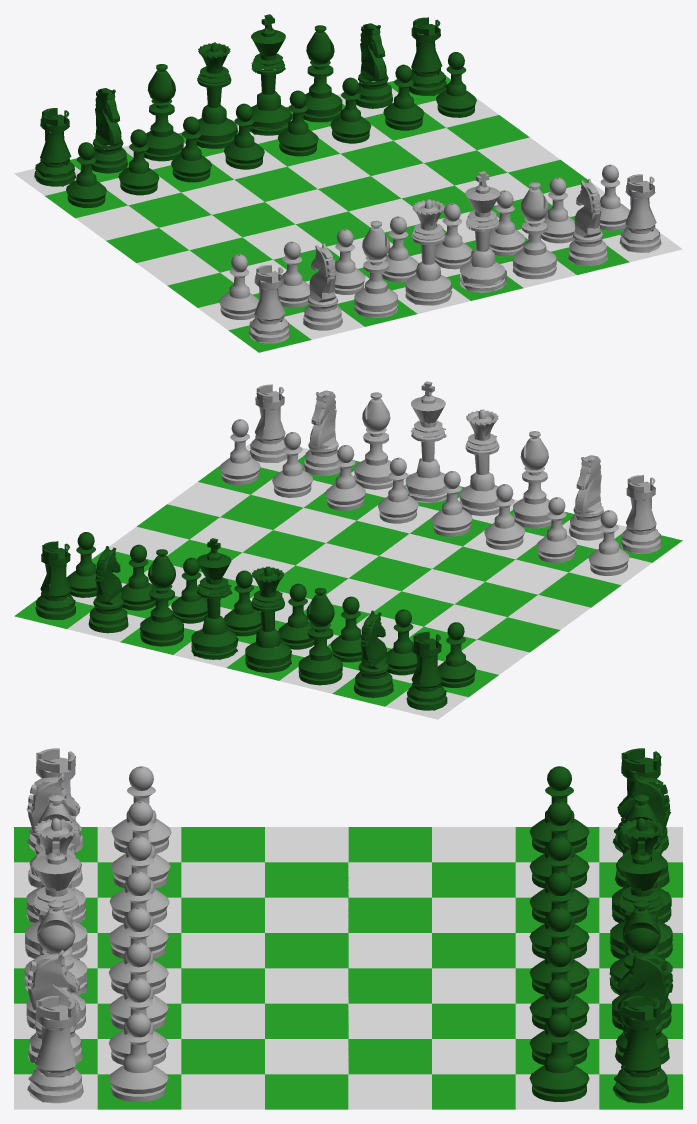
Rendered from chess_pieces.glb.
3 views of the same model, one above another, from view 1: azimuth 30°, elevation 25°; view 2: azimuth 150°, elevation 25°; view 3: azimuth 270°, elevation 25° (orthographic). The views are drawn at different scales.
Visible parts, largest first — view 1: w_king_1, g_king_1, w_queen_1, g_queen_1, w_bishop_2, w_bishop_1, g_bishop_1, g_bishop_2, w_knight_2, w_knight_1, w_rook_1, g_rook_1 (+66 smaller); view 2: g_king_1, w_king_1, g_queen_1, w_queen_1, g_bishop_1, g_bishop_2, w_bishop_1, w_bishop_2, g_knight_2, g_knight_1, g_rook_1, w_rook_1 (+66 smaller); view 3: w_rook_2, g_rook_2, g_pawn_8, w_pawn_8, board_1_5, board_3_5, board_5_5, board_7_5, board_0_4, board_4_4, board_6_4, board_1_3 (+84 smaller).
Part boxes in pixels (<box>): w_king_1: <box>459,171,506,292</box>; g_king_1: <box>249,14,292,135</box>; w_queen_1: <box>405,199,452,305</box>; g_queen_1: <box>197,42,237,148</box>; w_bishop_2: <box>512,182,556,279</box>; w_bishop_1: <box>354,220,397,317</box>; g_bishop_1: <box>144,64,183,161</box>; g_bishop_2: <box>303,25,342,122</box>; w_knight_2: <box>568,178,607,265</box>; w_knight_1: <box>303,243,342,330</box>; w_rook_1: <box>248,264,290,343</box>; g_rook_1: <box>34,108,75,186</box>; g_king_1: <box>191,538,238,659</box>; w_king_1: <box>405,381,446,502</box>; g_queen_1: <box>245,566,291,672</box>; w_queen_1: <box>459,409,499,516</box>; g_bishop_1: <box>298,588,342,685</box>; g_bishop_2: <box>140,549,183,646</box>; w_bishop_1: <box>513,431,551,528</box>; w_bishop_2: <box>354,392,392,489</box>; g_knight_2: <box>88,546,128,633</box>; g_knight_1: <box>353,610,393,697</box>; g_rook_1: <box>406,631,447,710</box>; w_rook_1: <box>620,474,661,553</box>; w_rook_2: <box>27,995,83,1103</box>; g_rook_2: <box>612,995,668,1103</box>; g_pawn_8: <box>529,1012,589,1101</box>; w_pawn_8: <box>108,1012,168,1101</box>; board_1_5: <box>181,862,264,897</box>; board_3_5: <box>181,933,264,968</box>; board_5_5: <box>181,1003,264,1038</box>; board_7_5: <box>181,1074,264,1109</box>; board_0_4: <box>265,827,348,862</box>; board_4_4: <box>265,968,348,1003</box>; board_6_4: <box>265,1039,348,1074</box>; board_1_3: <box>348,862,431,897</box>.
Bounding box in the file's own units: 8 × 1.99 × 8.
